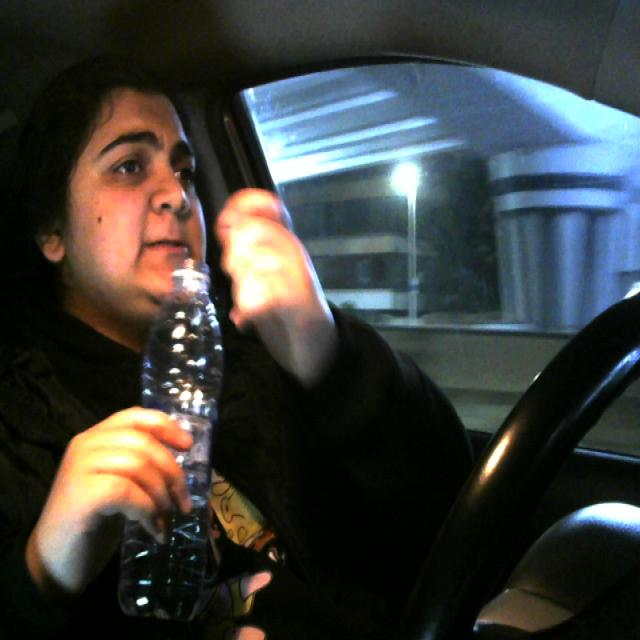drinking: (106, 233, 219, 640)
